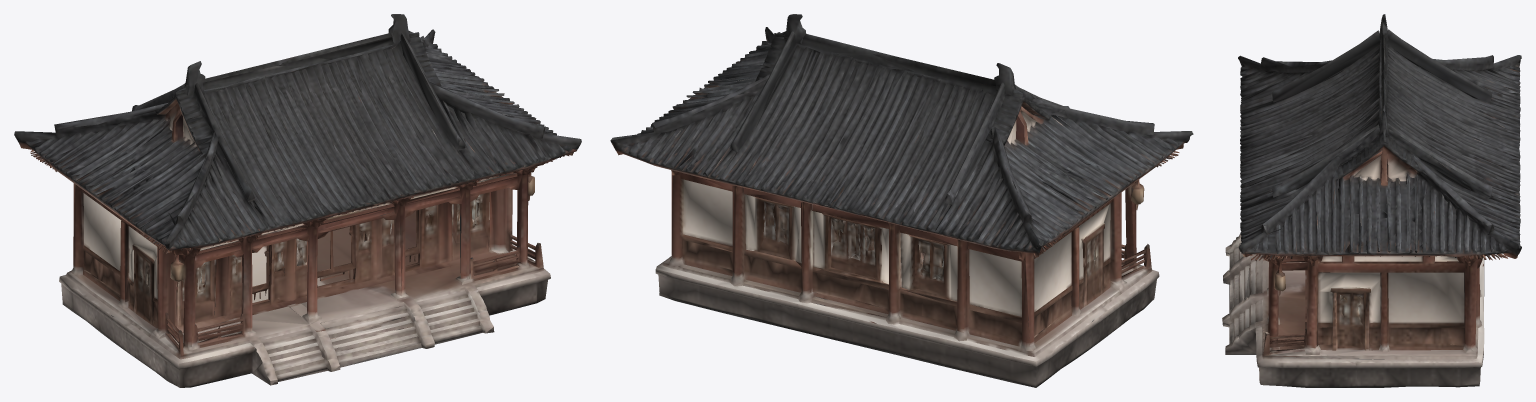
The model's file is 20_Market_Guild_Hall_LOD1.fbx.
3 renders of one model, left to right at view 1: azimuth 30°, elevation 25°; view 2: azimuth 150°, elevation 25°; view 3: azimuth 270°, elevation 25°, orthographic. The views are drawn at different scales.
Parts seen in each view (by area): view 1: 20_Market_Guild_Hall_L1; view 2: 20_Market_Guild_Hall_L1; view 3: 20_Market_Guild_Hall_L1.
Part boxes in pixels (box(x1,y1,x2,y2)): 20_Market_Guild_Hall_L1: box(14, 14, 581, 387); 20_Market_Guild_Hall_L1: box(610, 14, 1193, 387); 20_Market_Guild_Hall_L1: box(1222, 14, 1521, 387).
Size of the model in its own units: 15.25 by 9 by 10.05.
